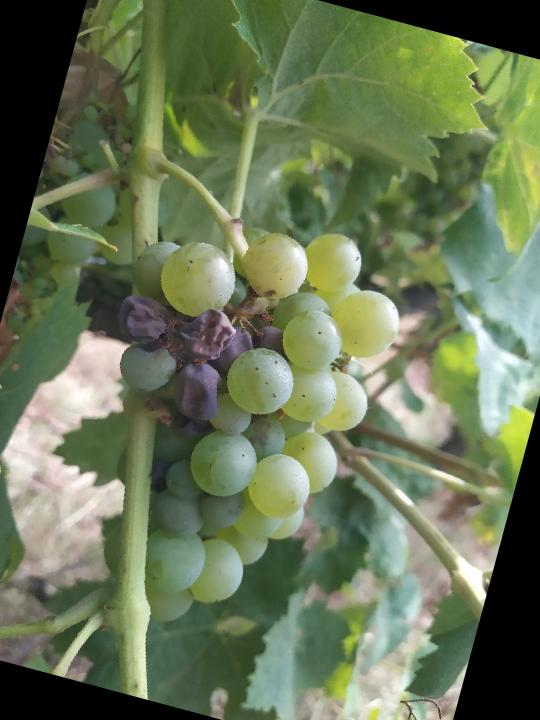grape: (43, 181, 422, 666)
